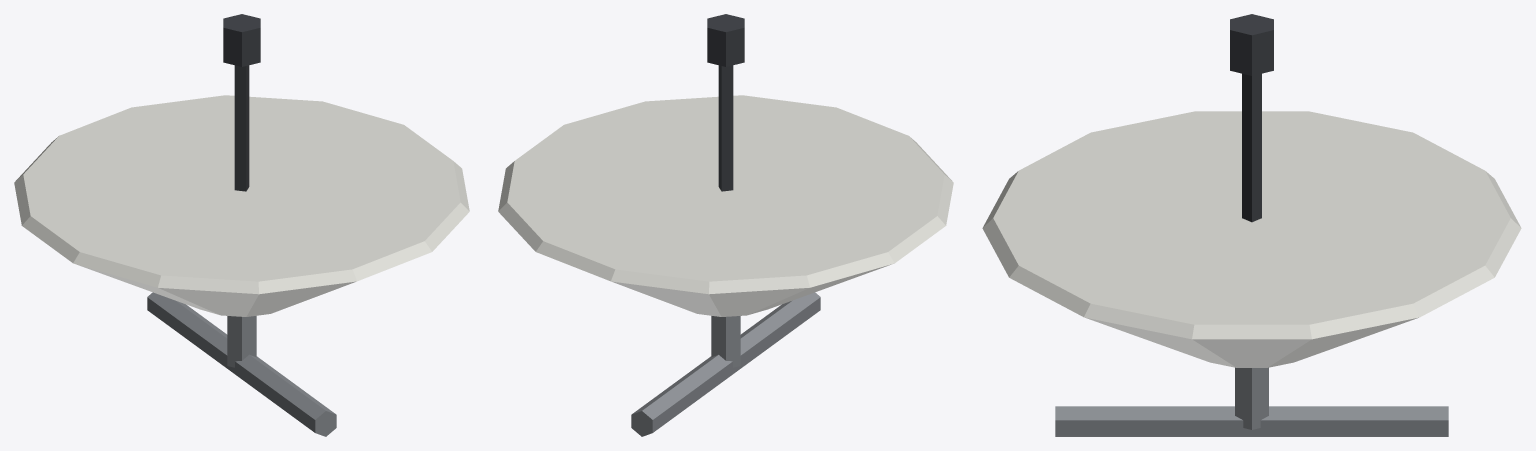
The picture shows the model from 3 angles, left to right: view 1: azimuth 30°, elevation 25°; view 2: azimuth 150°, elevation 25°; view 3: azimuth 270°, elevation 25°; orthographic projection. The views are drawn at different scales.
Size of the model in its own units: 0.9359 by 0.81 by 0.96.
Materials: 1 (1 with a texture image).
